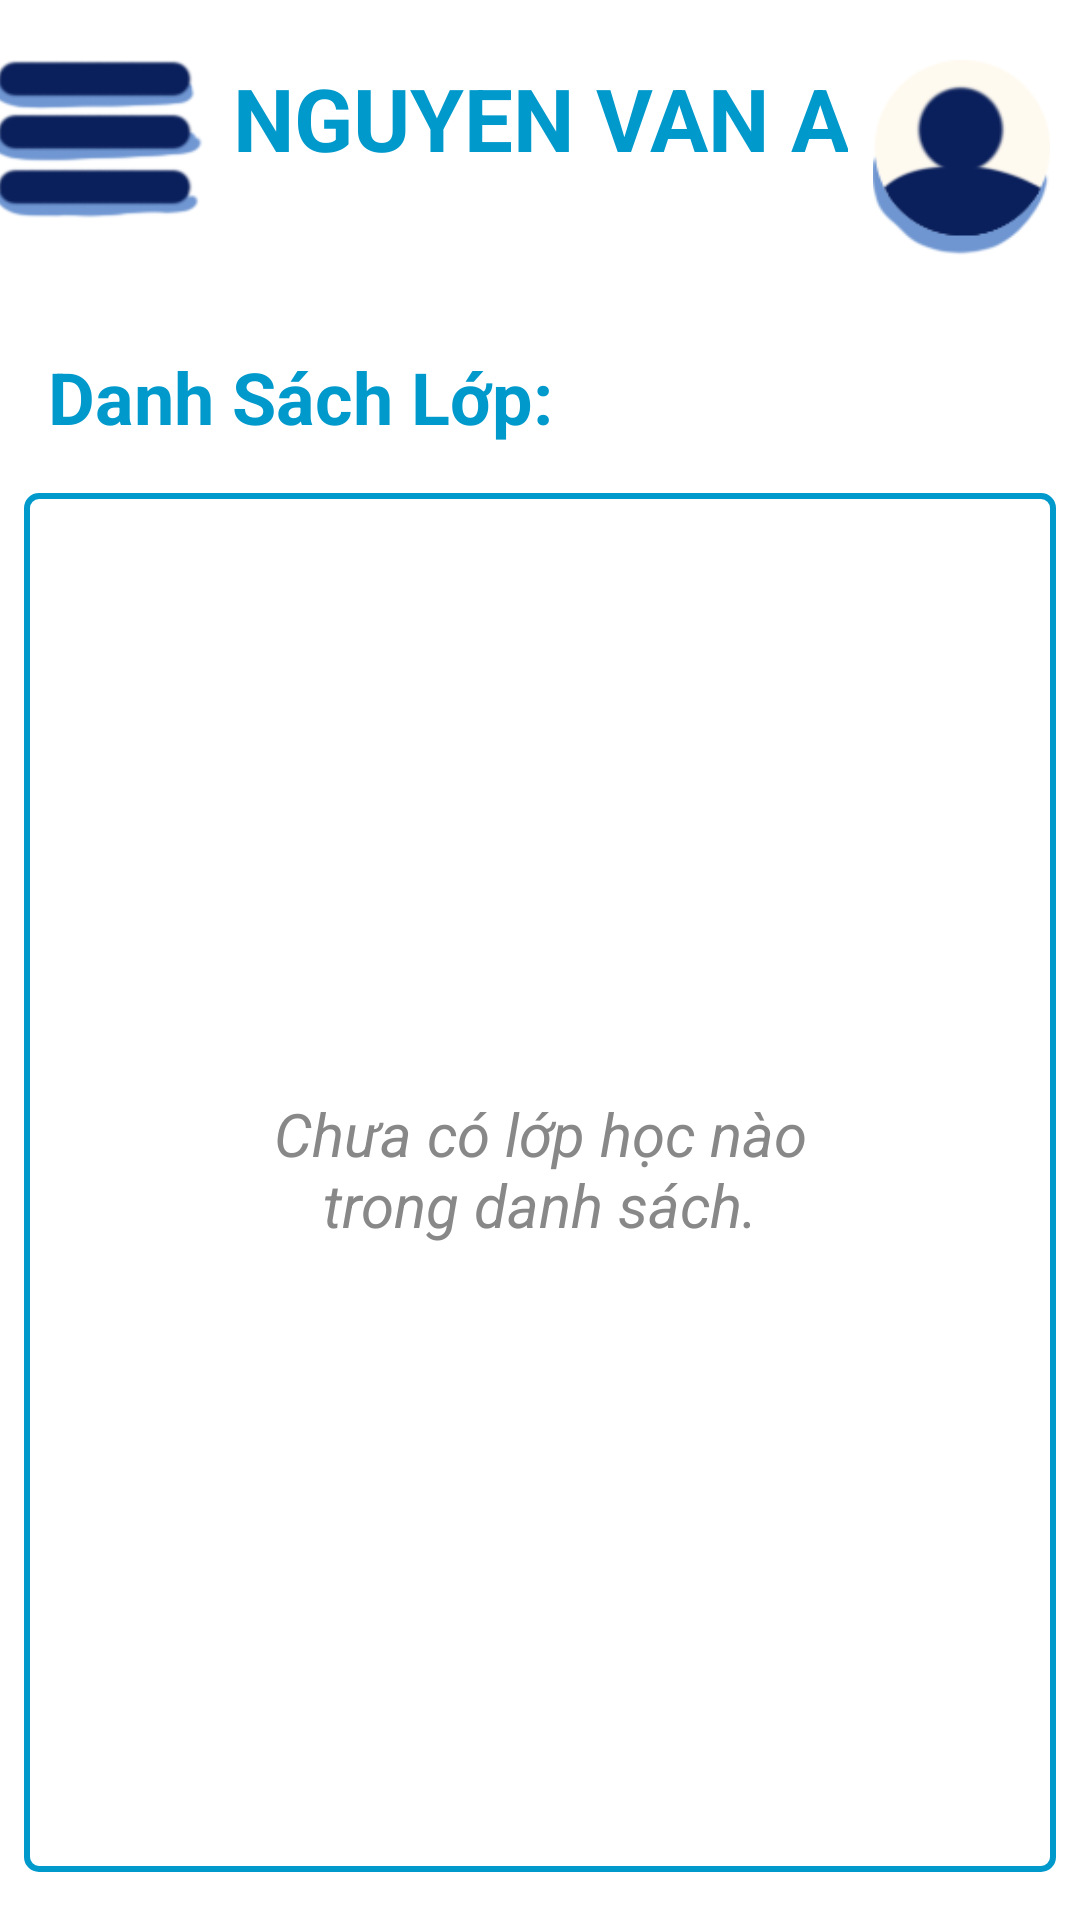

Named icons in this screenshot (1080px×1920px) and their centers, [x,y]:
menu: [101,139]
user: [960,169]
